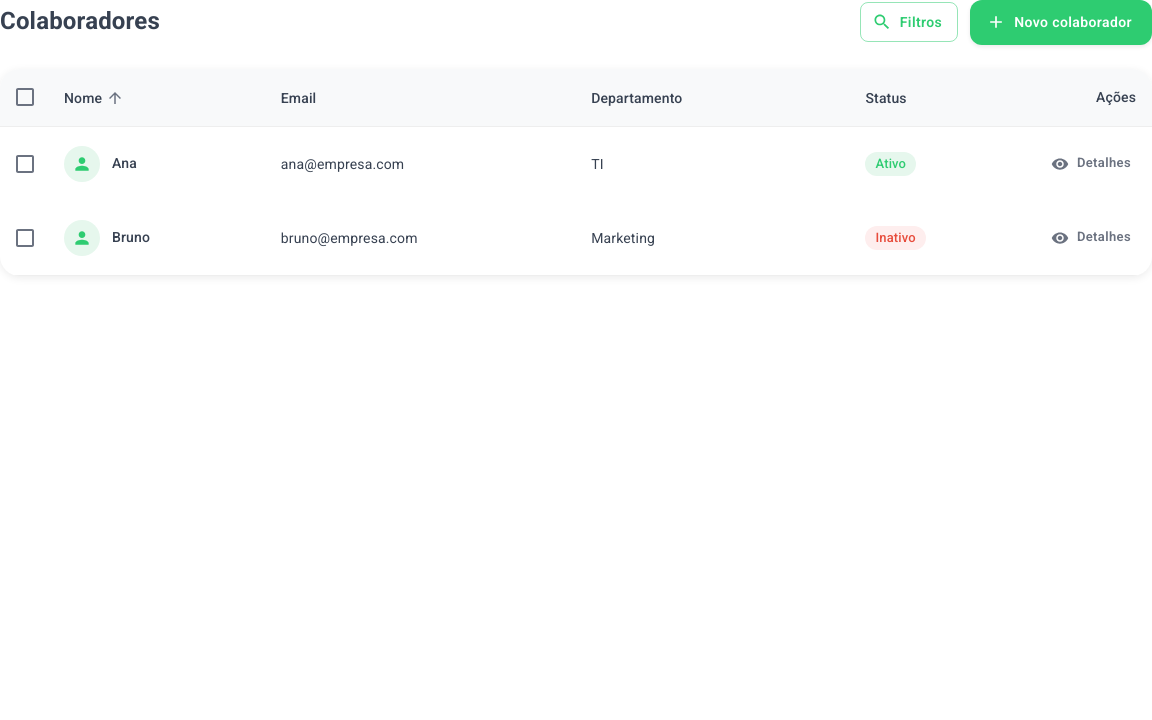
ColaboradoresPage (widget) › aplica filtro por departamento com refetch
Expected: the text "Ana" is shown, [112,153,137,174]
Click the button "Filtros" at coordinates (909, 22), box [860,2,958,42]
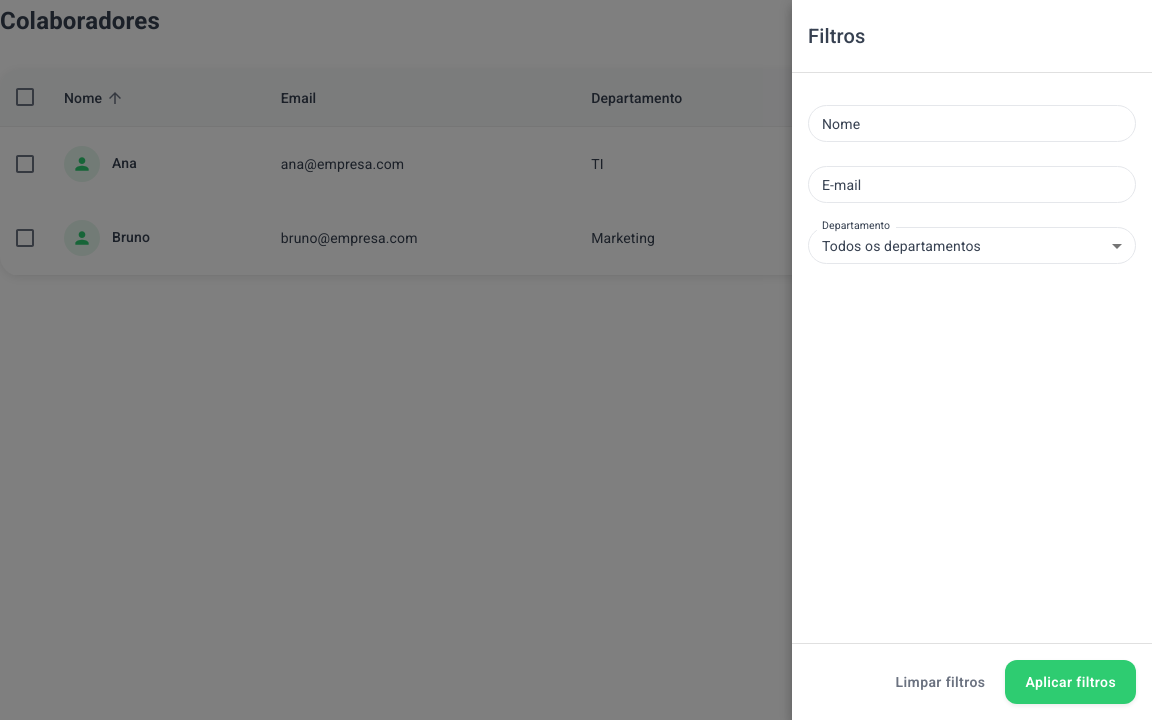
Click the dropdown labelled "departamento" at coordinates (902, 246), box [822,238,981,254]
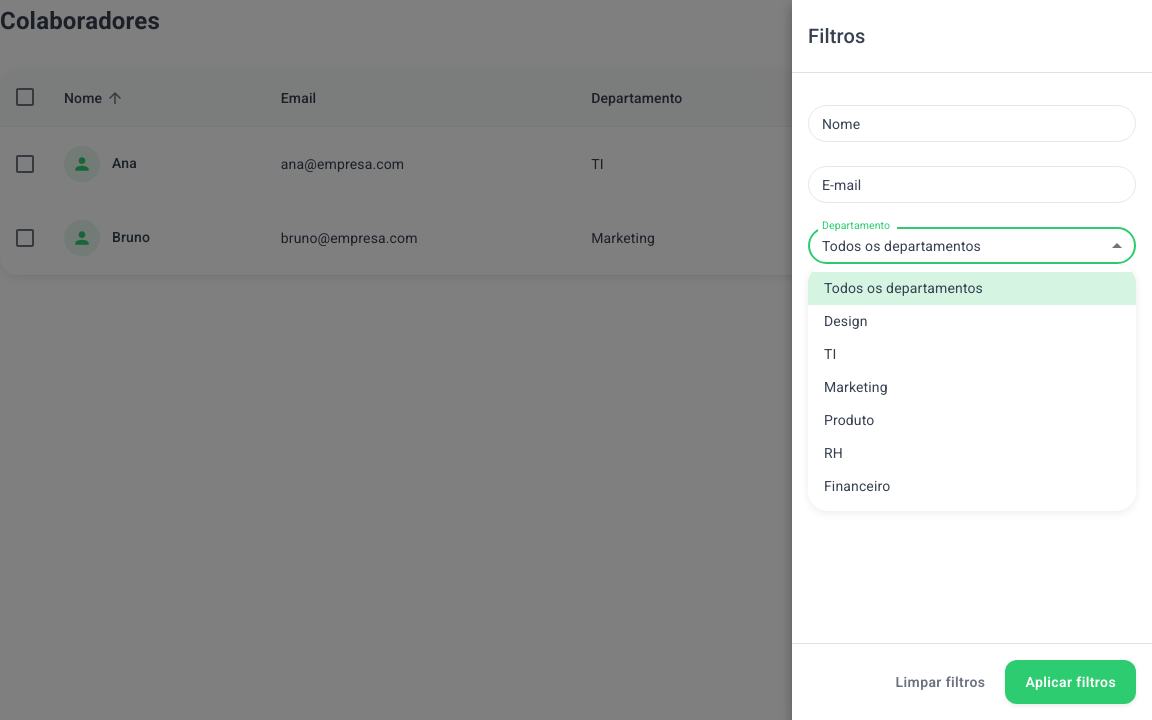
Click the option "TI" at coordinates (830, 354), box [824,346,836,362]
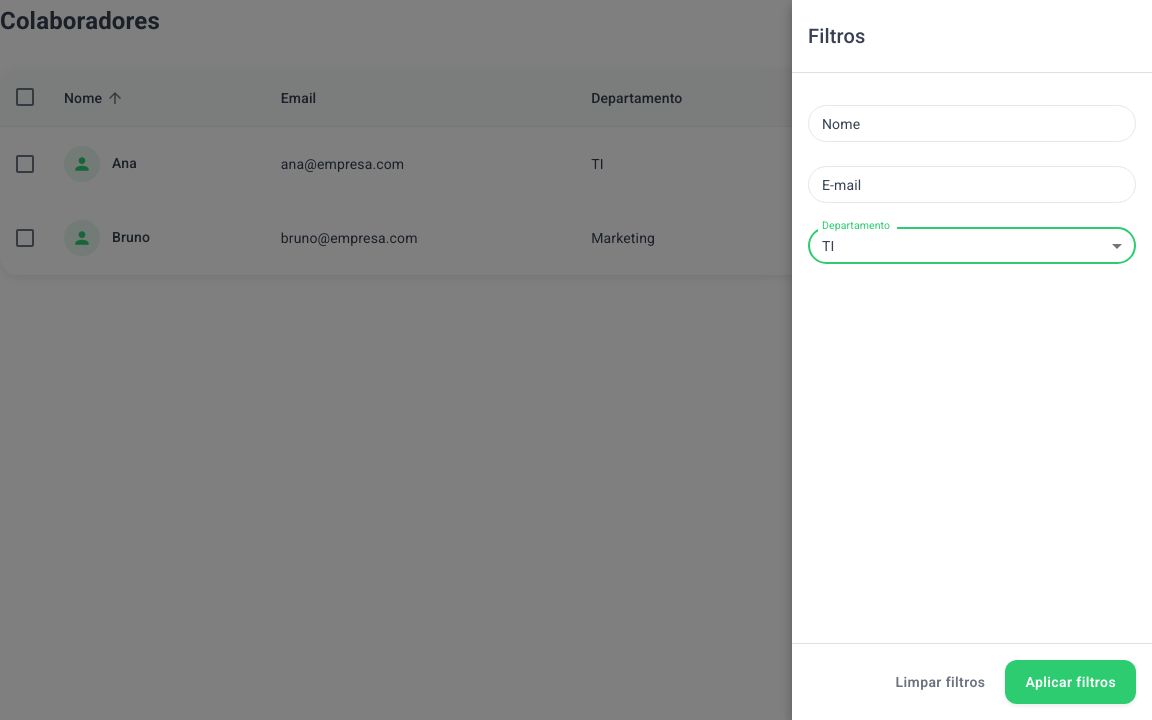
Click the button "Aplicar filtros" at coordinates (1071, 682), box [1005,660,1136,704]
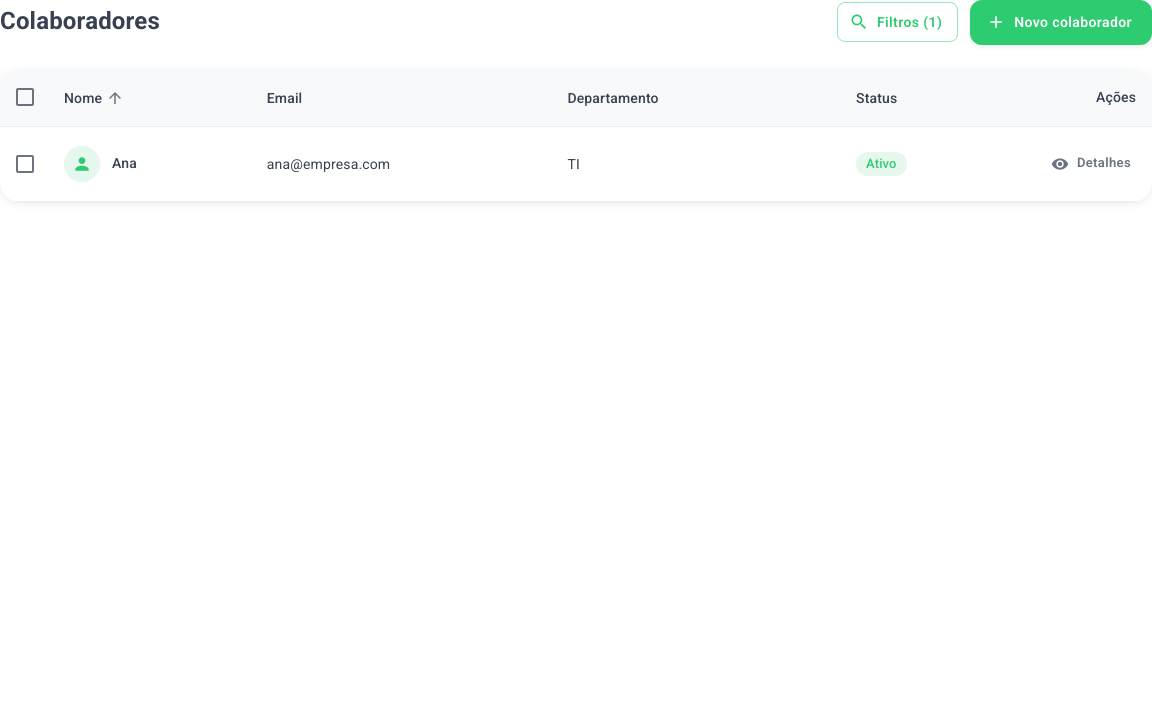
Expected: the text "Ana" is shown, [112,153,137,174]
Expected: the text "Bruno" is gone
